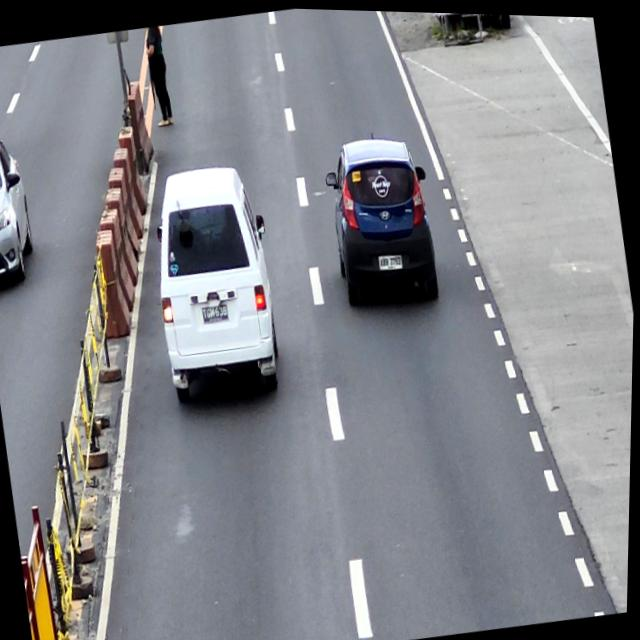Car: (140, 156, 294, 407), (318, 126, 448, 313)
License-Plate: (202, 302, 231, 323), (379, 251, 405, 271)
